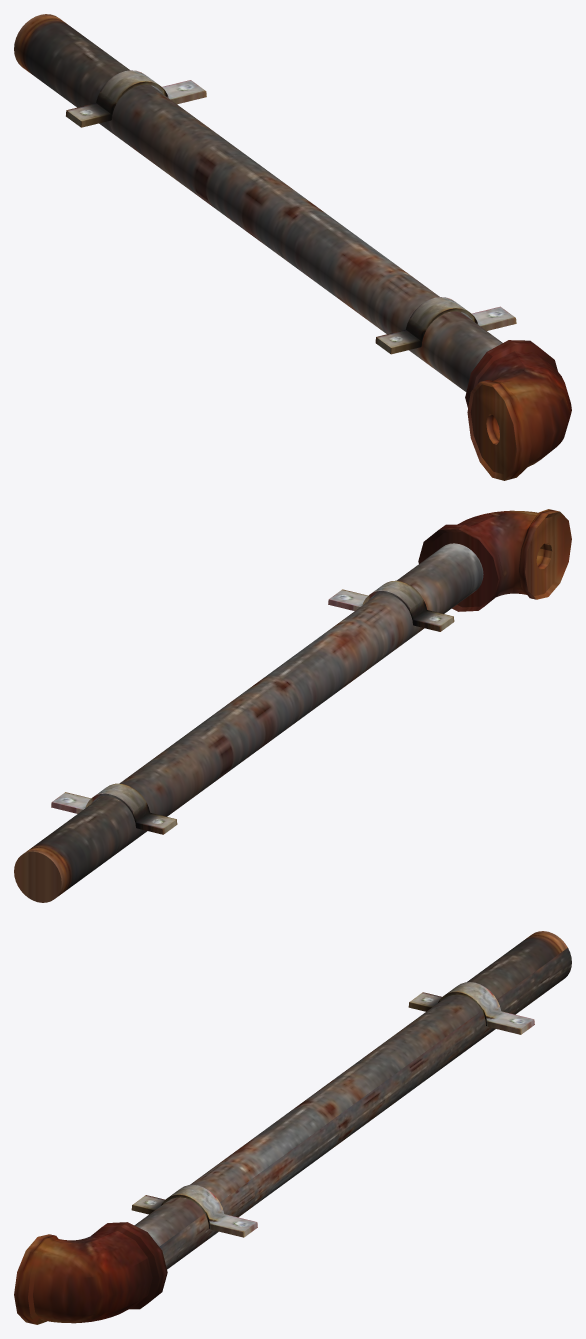
File: RUSTY RIGHTY.fbx
3 views of the same model, one above another, from view 1: azimuth 30°, elevation 25°; view 2: azimuth 150°, elevation 25°; view 3: azimuth 330°, elevation 25° (orthographic). The views are drawn at different scales.
Visible parts, largest first — view 1: RUSTY RIGHTY.001; view 2: RUSTY RIGHTY.001; view 3: RUSTY RIGHTY.001.
Part boxes in pixels (x1,y1,x2,y2): RUSTY RIGHTY.001: (14,14,571,480); RUSTY RIGHTY.001: (14,509,571,902); RUSTY RIGHTY.001: (14,931,571,1324).
Bounding box in the file's own units: 1.93 × 1.33 × 13.95.
